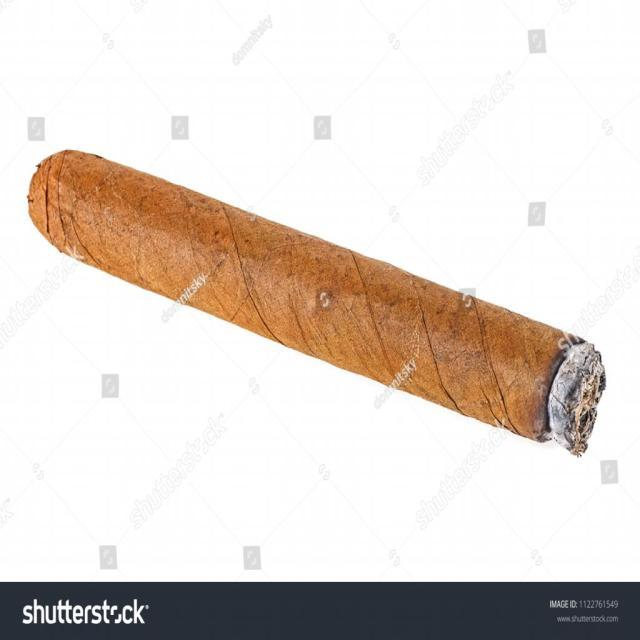smoking: (5, 135, 626, 465)
